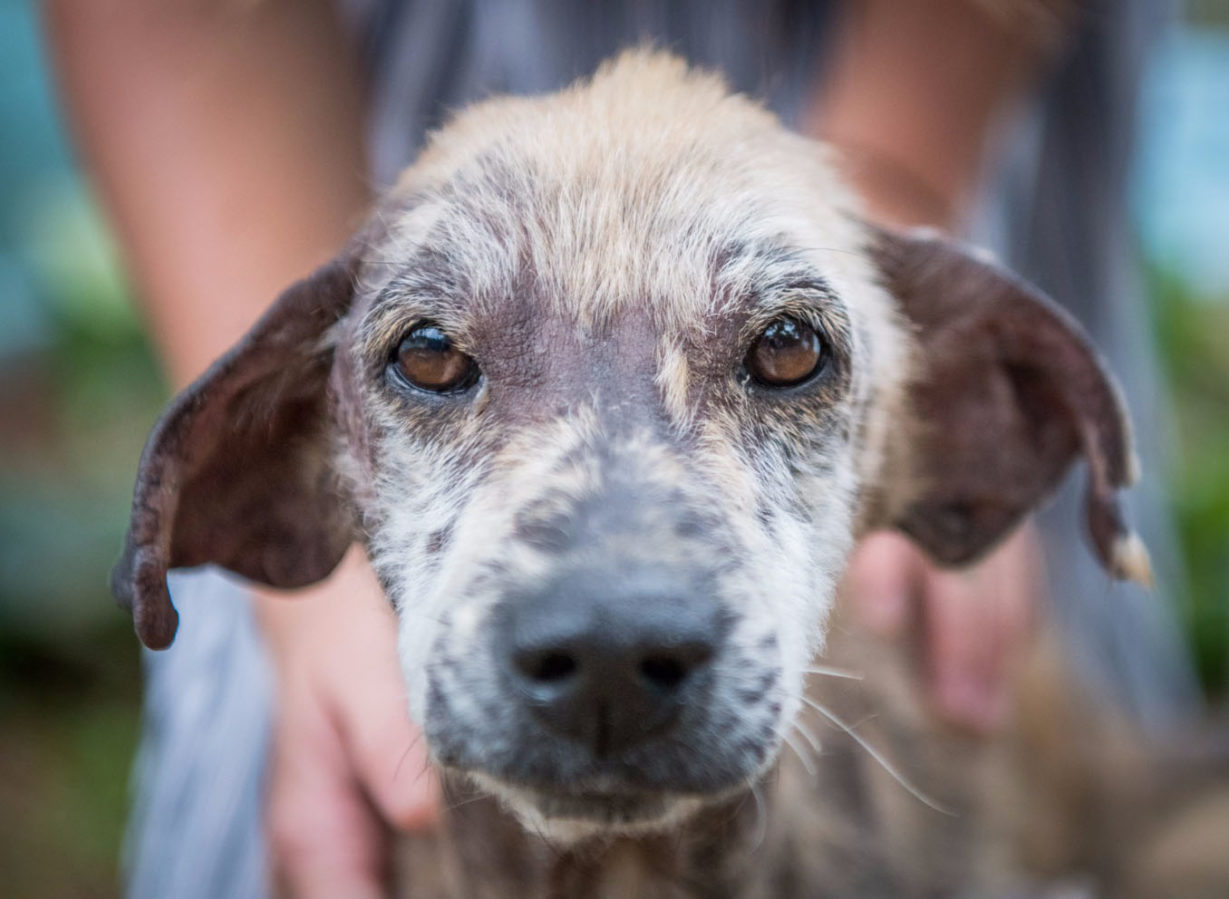Dog: (93, 38, 1195, 864)
